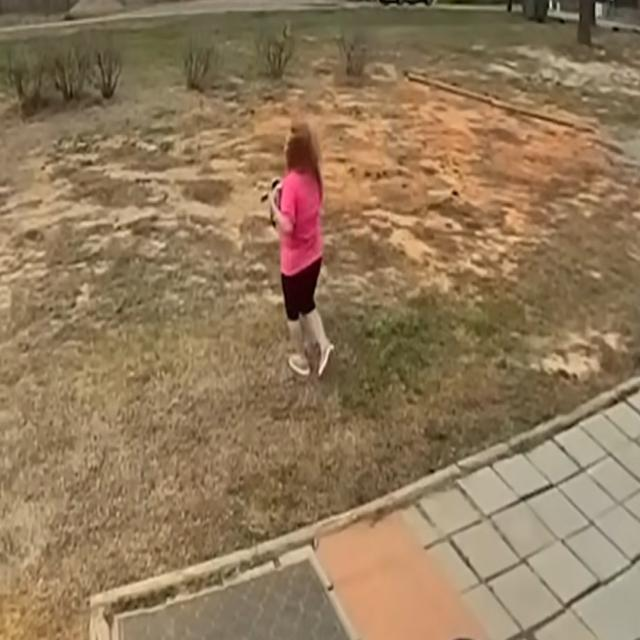standing: (269, 122, 333, 376)
